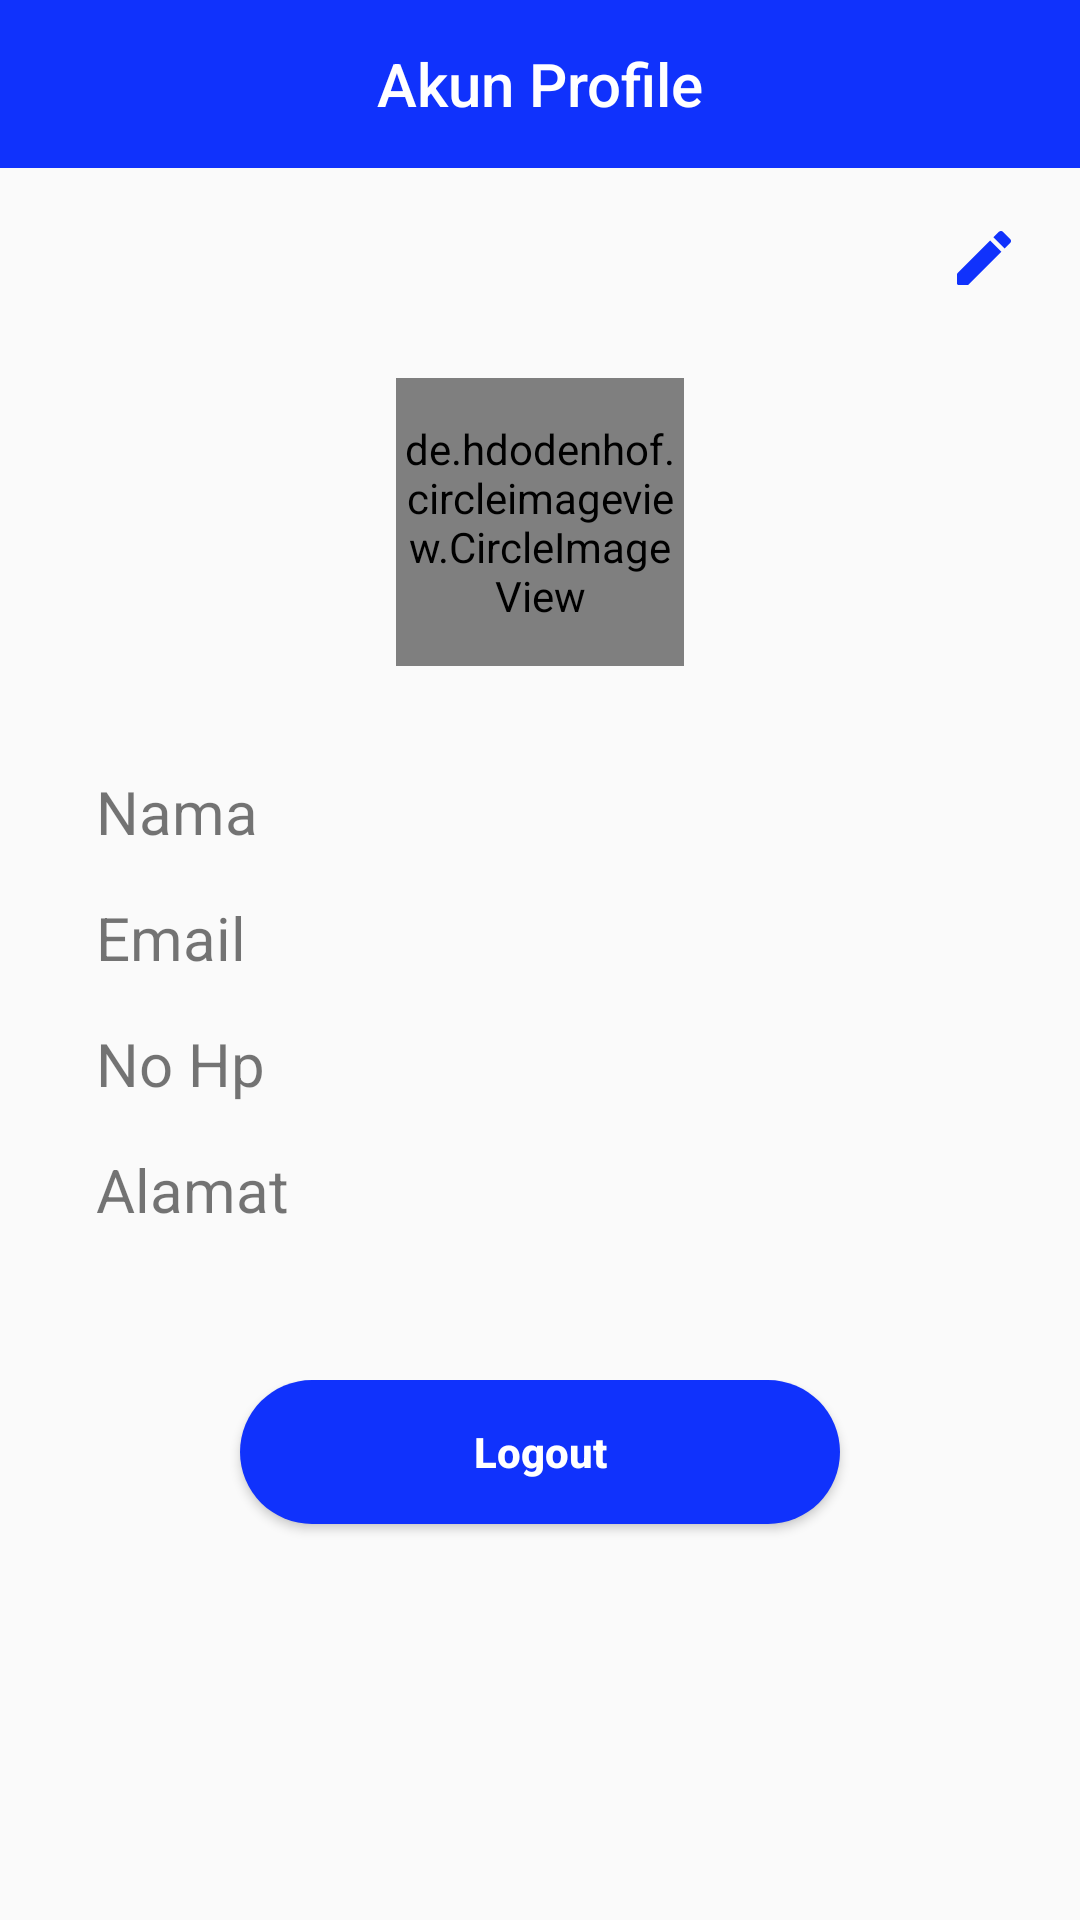

Where icons sit on this 1080x1920 app screen, as (x1, y1, x2, y2):
create: (957, 231, 1011, 285)
